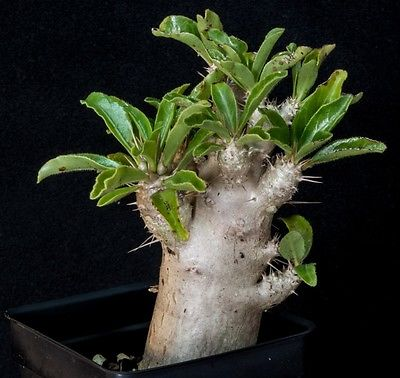Pachypodium saundersii: (57, 12, 369, 355)
